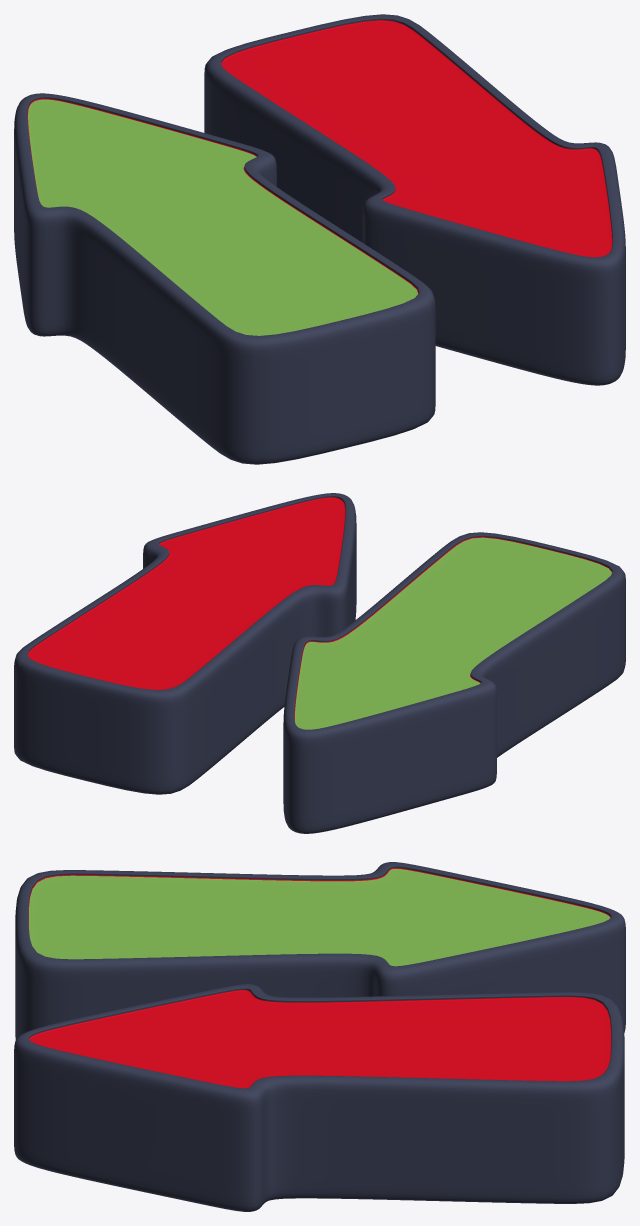
The model's file is generic_data.glb.
3 views of the same model, one above another, from view 1: azimuth 30°, elevation 25°; view 2: azimuth 150°, elevation 25°; view 3: azimuth 270°, elevation 25° (orthographic). The views are drawn at different scales.
Parts seen in each view (by area): view 1: Data; view 2: Data; view 3: Data.
Part boxes in pixels (box(x1,y1,x2,y2)): Data: box(14, 14, 625, 464); Data: box(14, 493, 625, 833); Data: box(14, 862, 625, 1211).
Size of the model in its own units: 0.7703 by 0.1827 by 0.8429.
